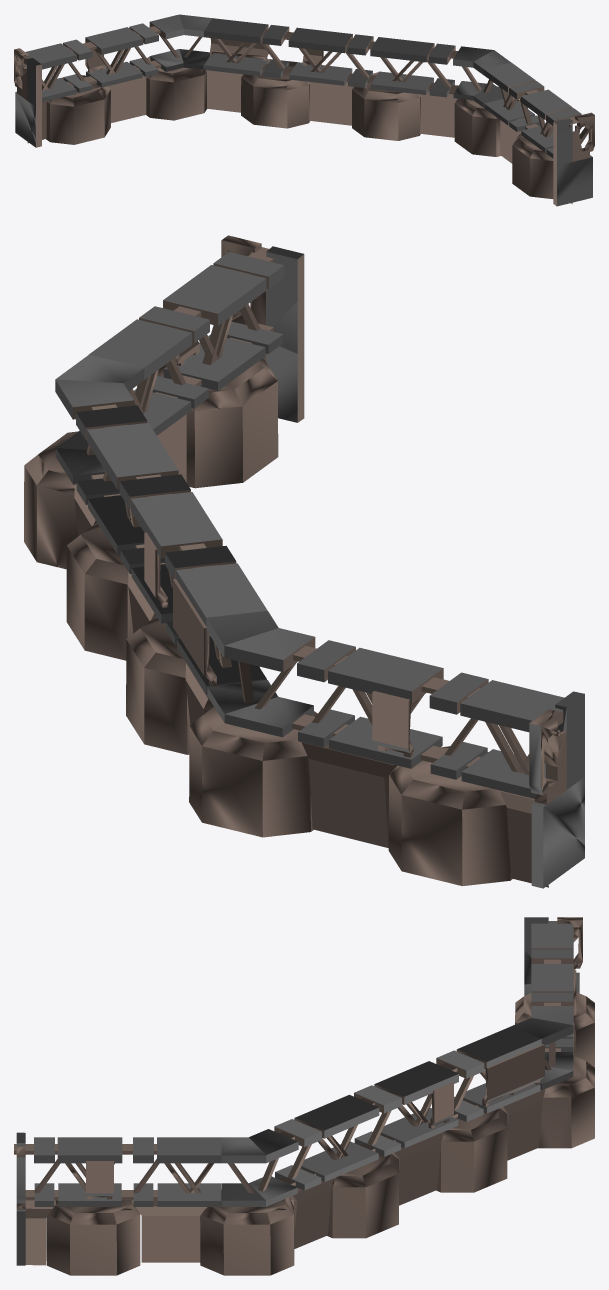
The model's file is lorville_city_plating_wall_cornerout_45degree_c_a.glb.
3 renders of one model, top to bottom at view 1: azimuth 30°, elevation 25°; view 2: azimuth 150°, elevation 25°; view 3: azimuth 270°, elevation 25°, orthographic. The views are drawn at different scales.
Size of the model in its own units: 482 by 104 by 484.
